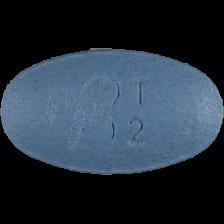0069-2180: (0, 0, 224, 224)
